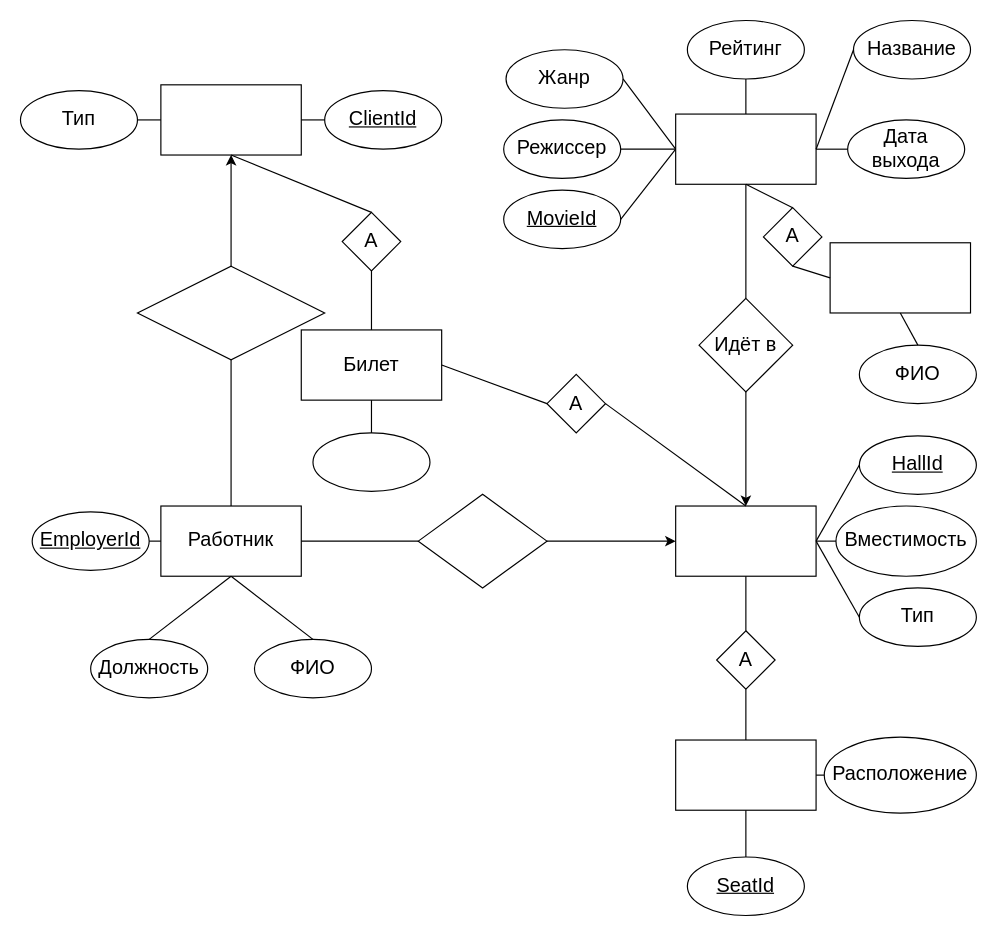
Image size: 997x936. Some labels were removed from this diagram. Here are the shapes that lost their labels. From the top down, the box of each, then its label:
(160, 84, 301, 155): Посетитель
(675, 113, 816, 184): Фильм
(829, 242, 971, 313): Актер
(136, 265, 325, 360): Обслуживают
(312, 432, 430, 491): ThicketId
(417, 493, 547, 588): Работают
(675, 505, 816, 576): Кинозал
(675, 739, 816, 810): Место
